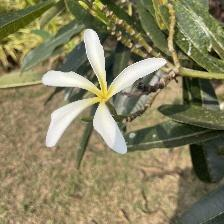champaka: (40, 28, 172, 158)
